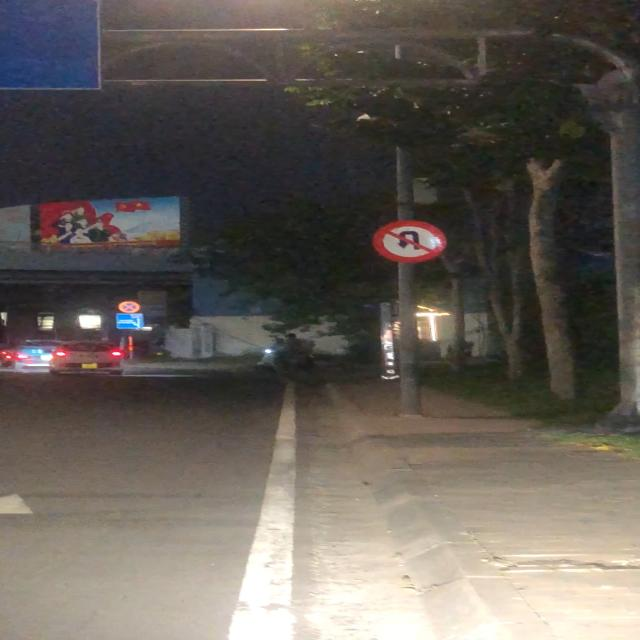Bien bao cam dung xe va do xe: (118, 300, 142, 314)
Bien bao cam quay dau xe: (371, 219, 450, 264)
